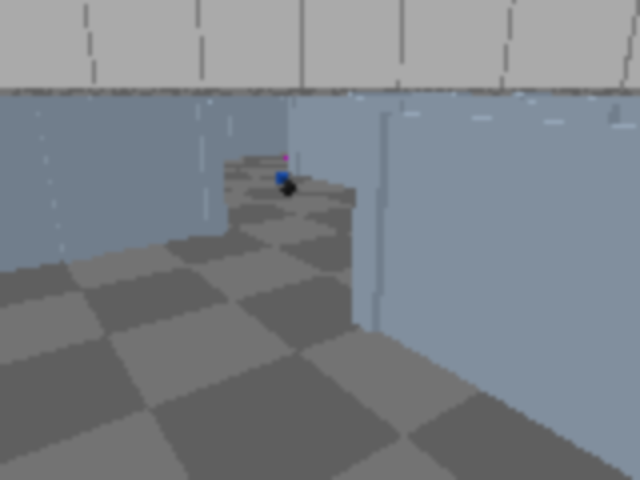puck: (279, 180, 298, 197)
